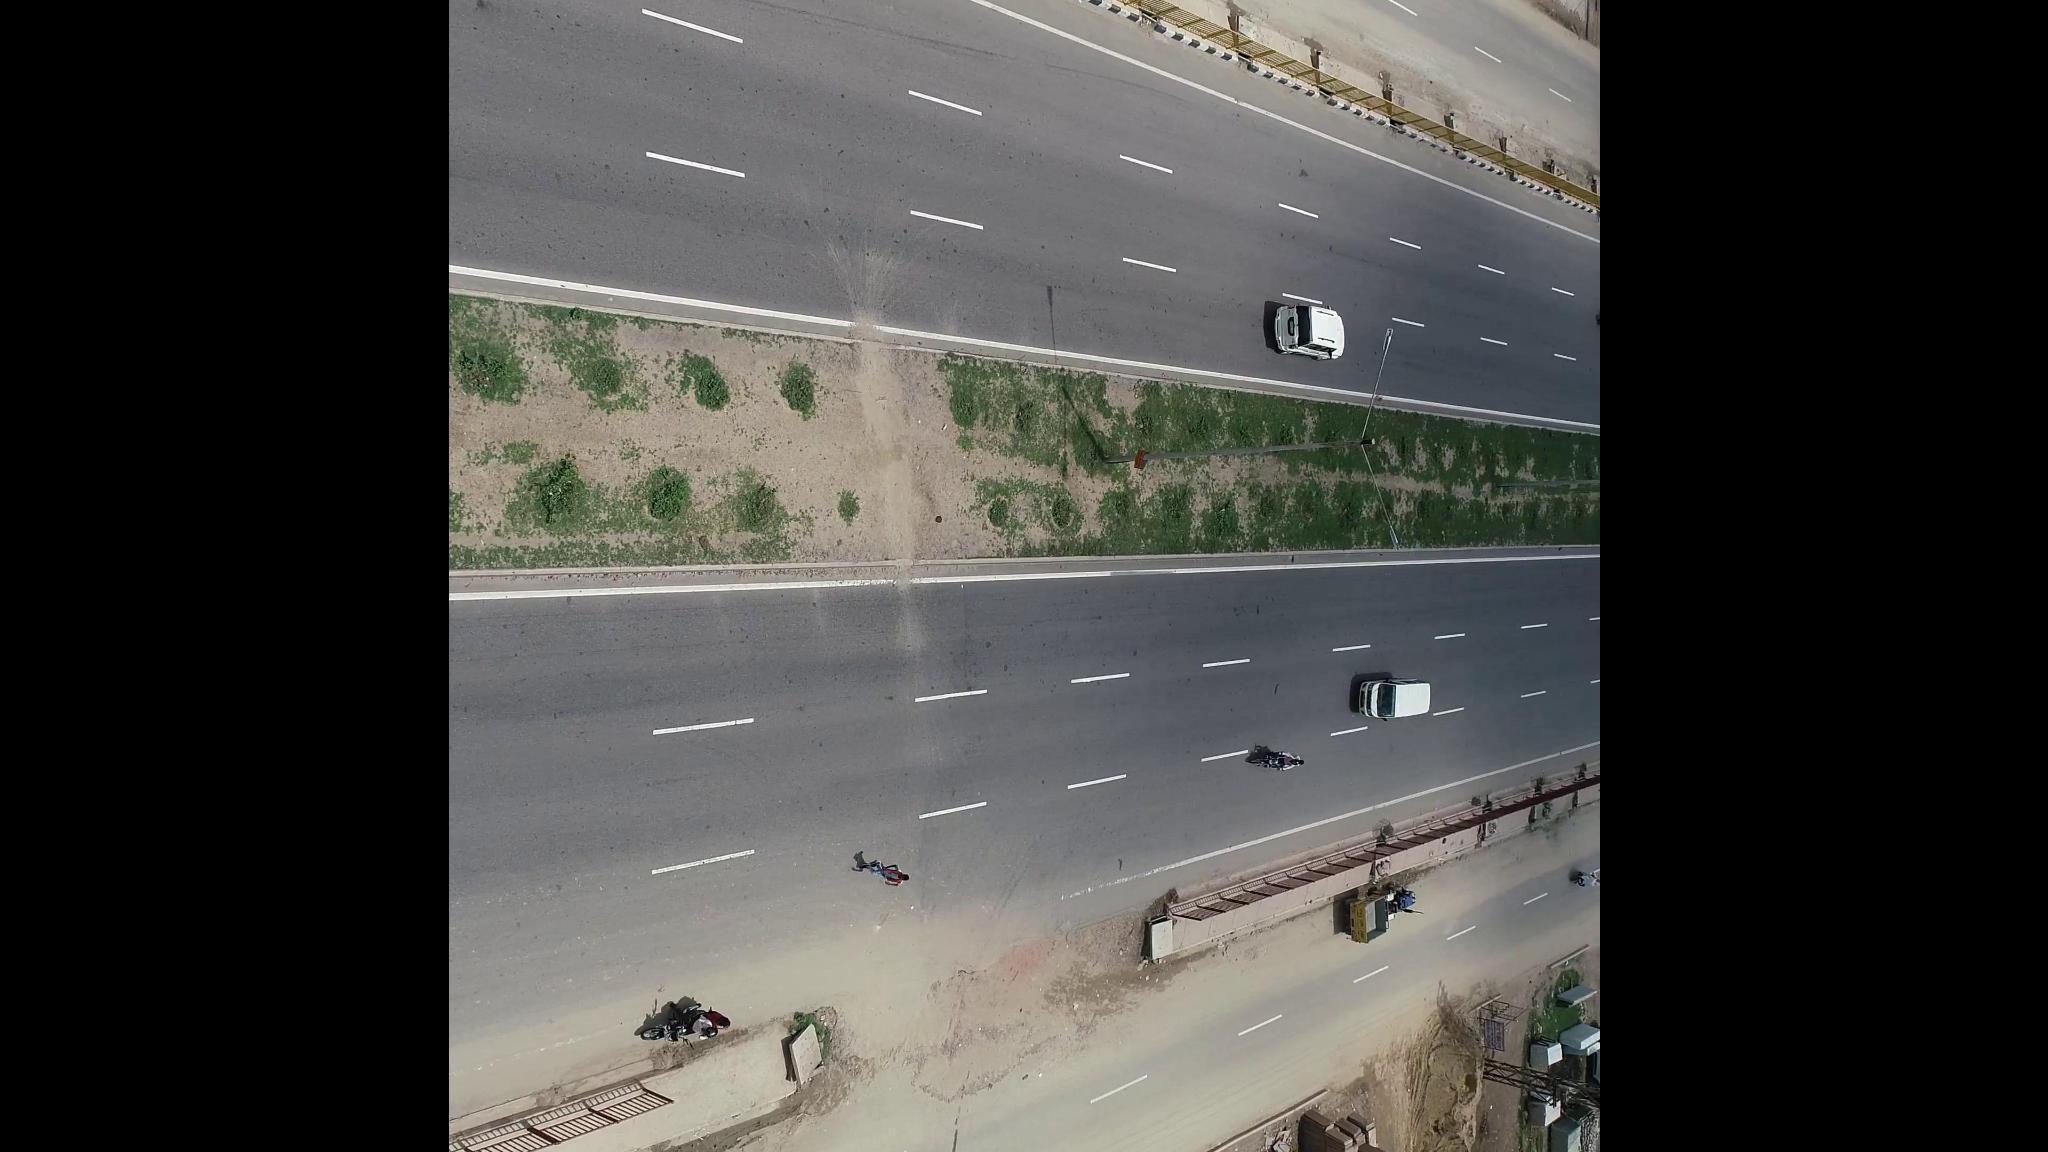Muddy_road: (895, 933, 1038, 1106)
